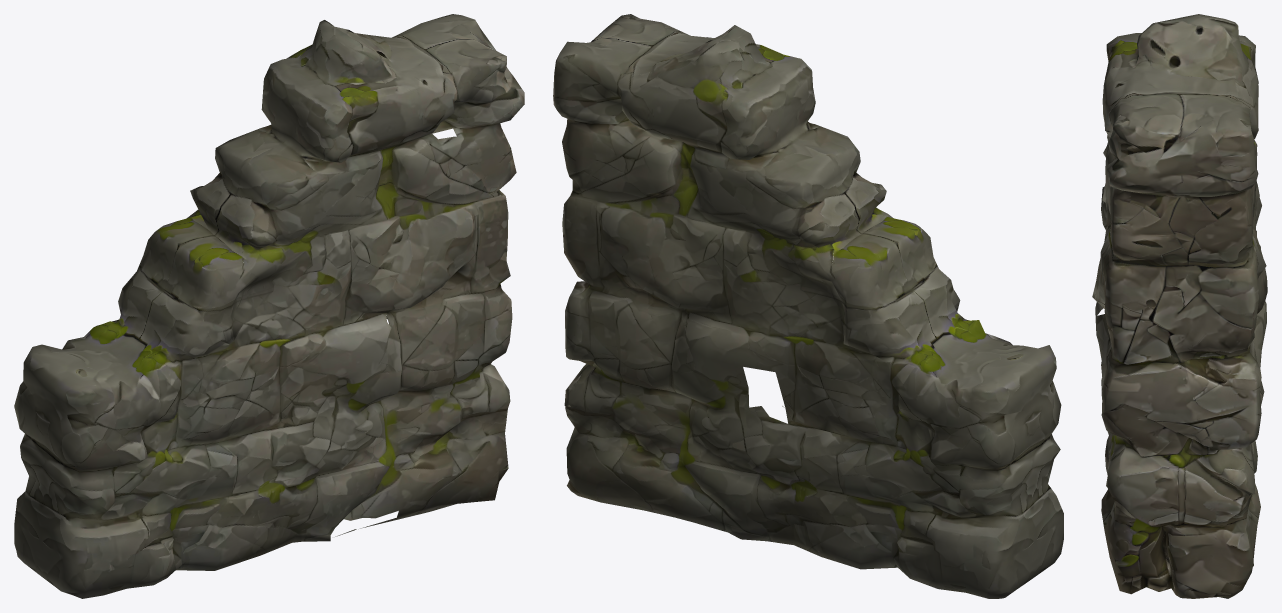
Rendered from ruined stone wall 3d model.glb.
3 views of the same model, side by side, from view 1: azimuth 30°, elevation 25°; view 2: azimuth 150°, elevation 25°; view 3: azimuth 270°, elevation 25° (orthographic). The views are drawn at different scales.
Parts seen in each view (by area): view 1: tripo_node_697bbc24; view 2: tripo_node_697bbc24; view 3: tripo_node_697bbc24.
Boxes of the visible parts, left/top/right/bottom form: tripo_node_697bbc24: left=14, top=14, right=524, bottom=598; tripo_node_697bbc24: left=553, top=14, right=1063, bottom=598; tripo_node_697bbc24: left=1092, top=14, right=1267, bottom=598.
Size of the model in its own units: 96.69 by 96.67 by 29.71.
1 material, 1 textured.
